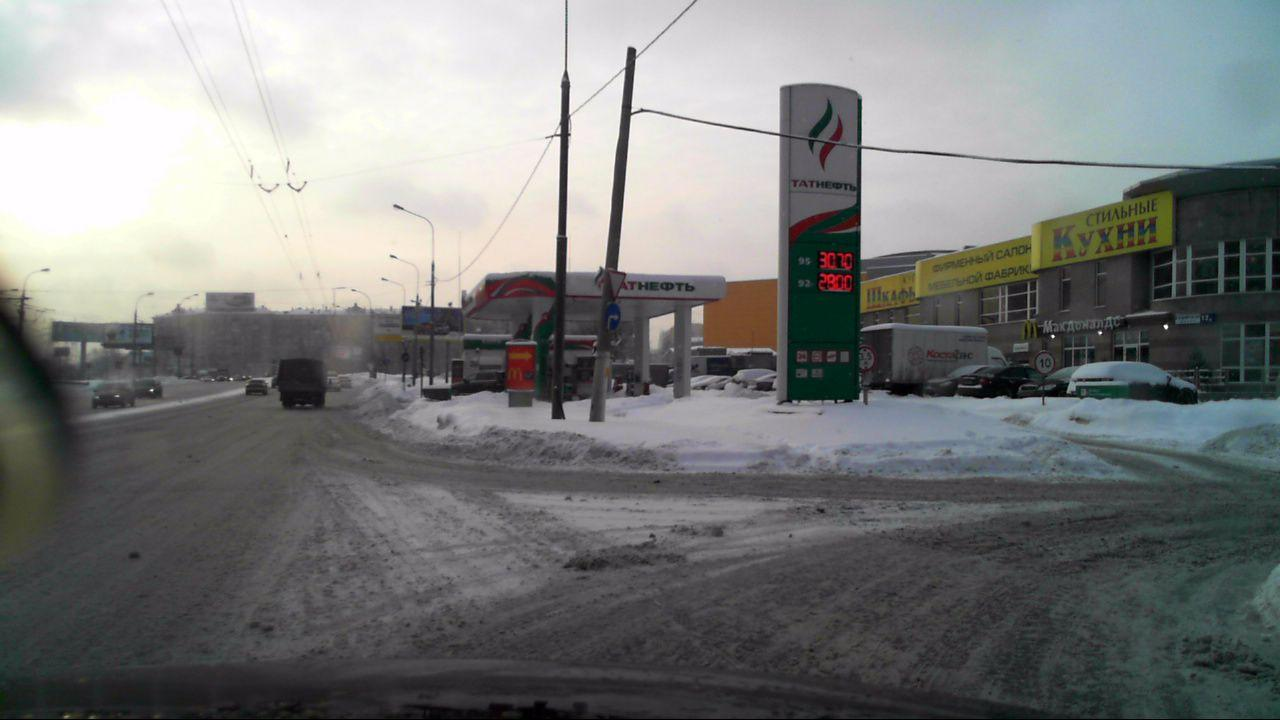obstructed_road_sign: (859, 344, 877, 372)
road_sign: (605, 267, 628, 303), (603, 302, 622, 331), (1035, 351, 1055, 374)
